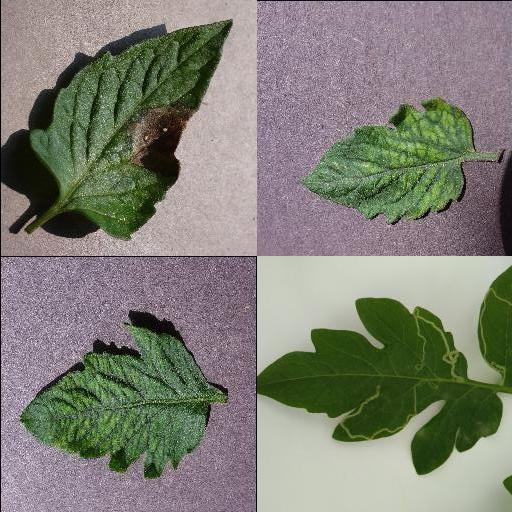Late Blight: (30, 17, 234, 243)
Leaf Miner: (256, 298, 502, 477)
Mosaic Virus: (19, 321, 211, 481), (294, 98, 474, 224)
